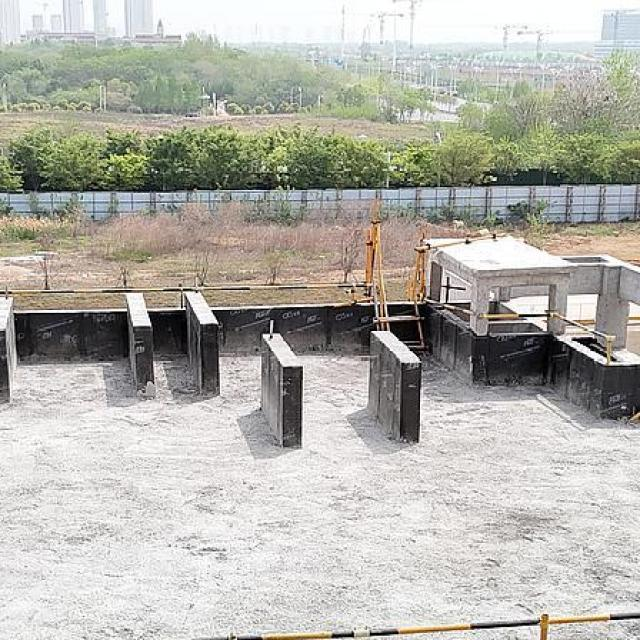Guardrail: (224, 611, 640, 640), (0, 281, 374, 309), (475, 309, 616, 365), (422, 295, 475, 315)
